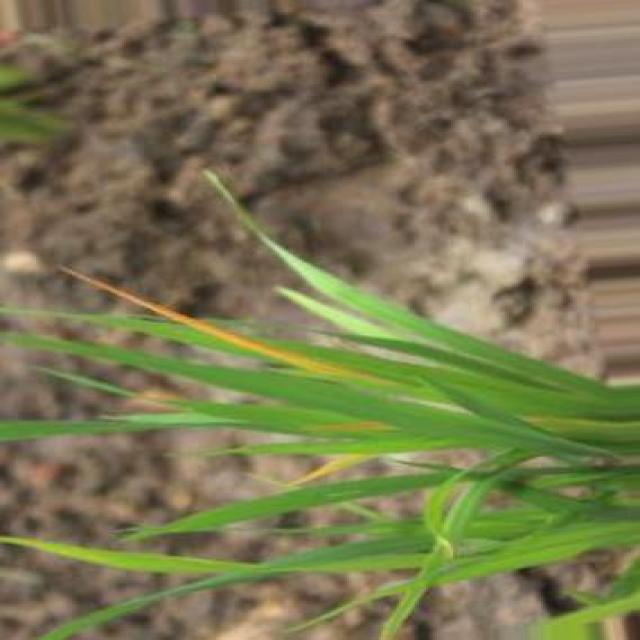Rice Tungro: (60, 267, 364, 377), (289, 454, 371, 486)
